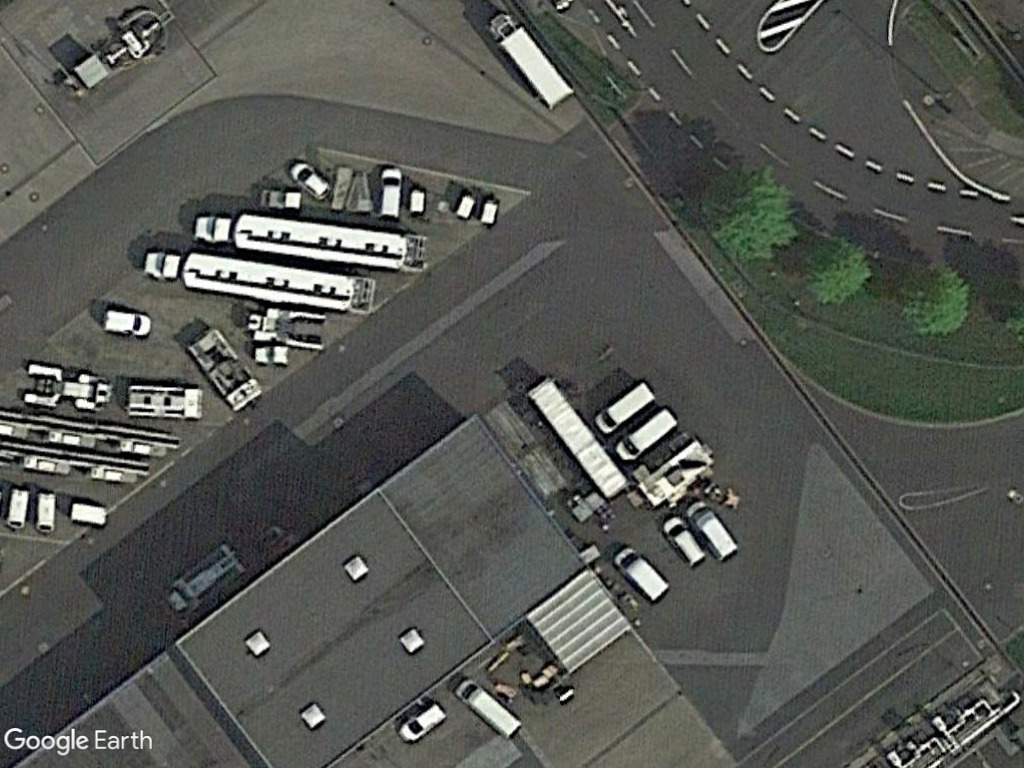car: (286, 158, 335, 203)
longvehicle: (177, 246, 357, 313), (231, 209, 411, 270)
pushbacktruck: (181, 323, 263, 411), (22, 358, 114, 414)
truck: (485, 11, 574, 111)
van: (456, 675, 526, 743), (607, 543, 673, 607), (612, 405, 681, 466), (591, 379, 660, 439), (683, 496, 738, 564), (659, 513, 709, 566), (396, 698, 447, 749), (100, 304, 155, 342), (376, 159, 404, 224)
